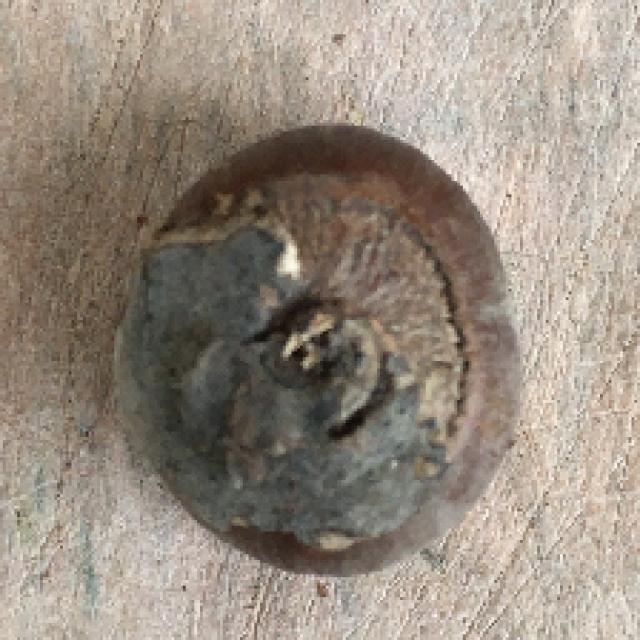damagedHazelnut: (105, 128, 514, 575)
